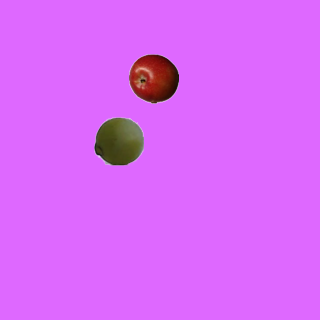Apple Braeburn: (128, 53, 178, 103)
Grape White 4: (93, 115, 143, 165)
